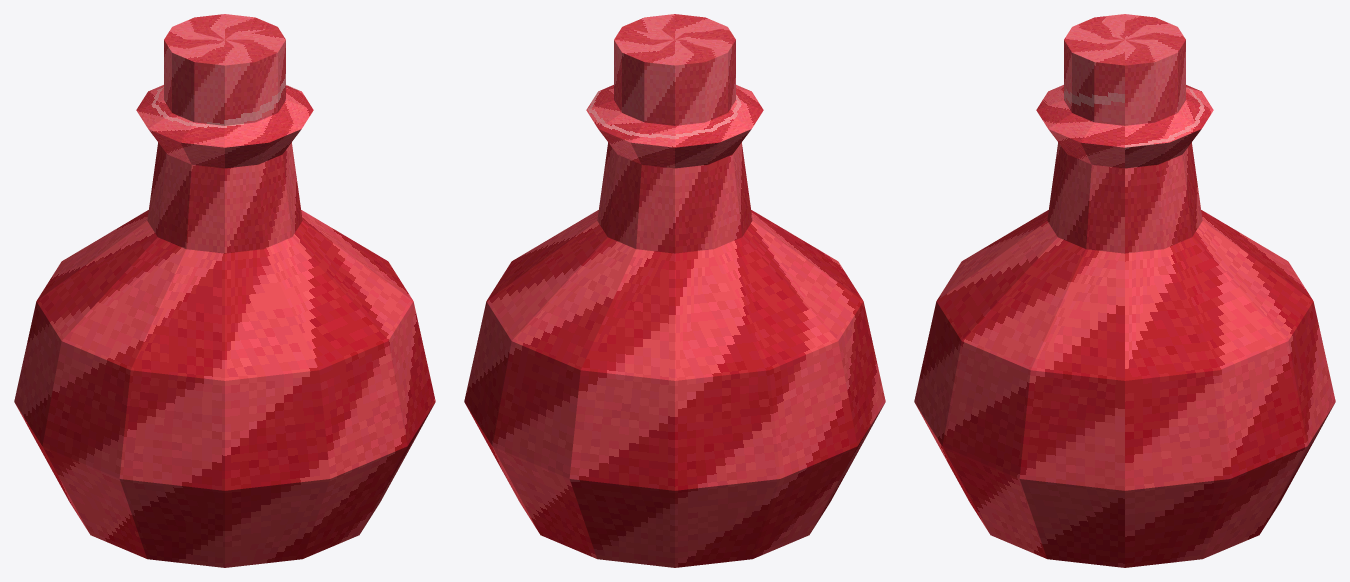
The model's file is pocao_cura.glb.
3 renders of one model, left to right at view 1: azimuth 30°, elevation 25°; view 2: azimuth 150°, elevation 25°; view 3: azimuth 270°, elevation 25°, orthographic.
Visible parts, largest first — view 1: pocao_cura; view 2: pocao_cura; view 3: pocao_cura.
Boxes of the visible parts, box(x1,y1,x2,y2) form: pocao_cura: box(14, 14, 435, 567); pocao_cura: box(464, 14, 885, 567); pocao_cura: box(914, 14, 1335, 567).
Size of the model in its own units: 0.38 by 0.48 by 0.38.
Materials: 1 (1 with a texture image).
